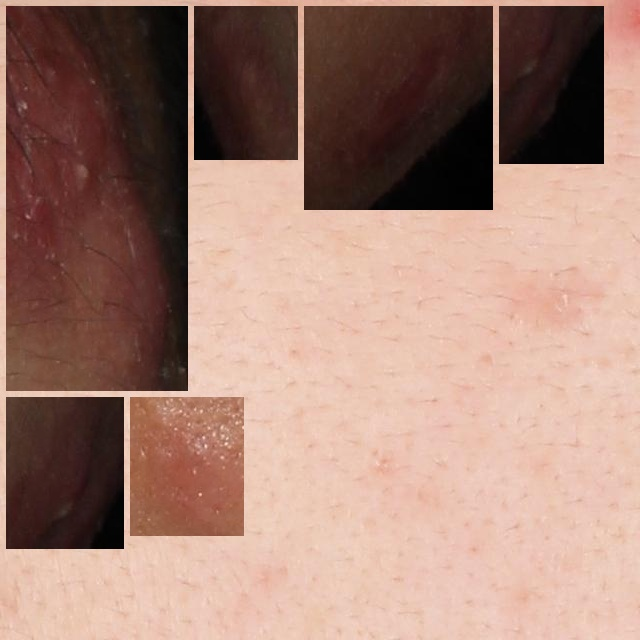nodule: (14, 14, 180, 383), (312, 14, 485, 202), (14, 405, 116, 541), (507, 14, 596, 156), (202, 14, 290, 152), (138, 405, 236, 528)
